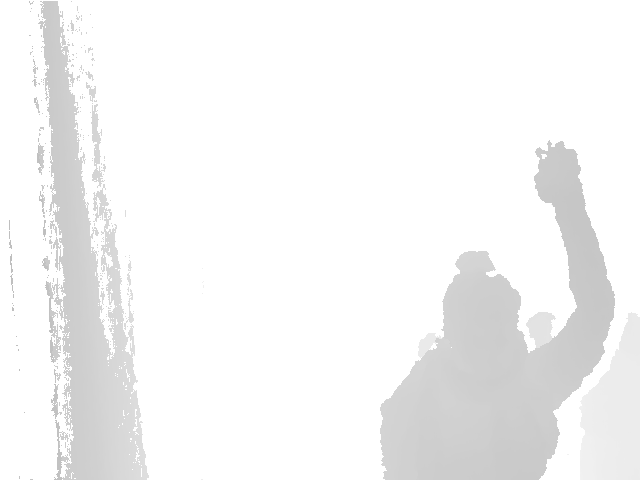hand: (533, 139, 587, 208)
head: (442, 251, 521, 368)
person: (377, 138, 618, 480)
